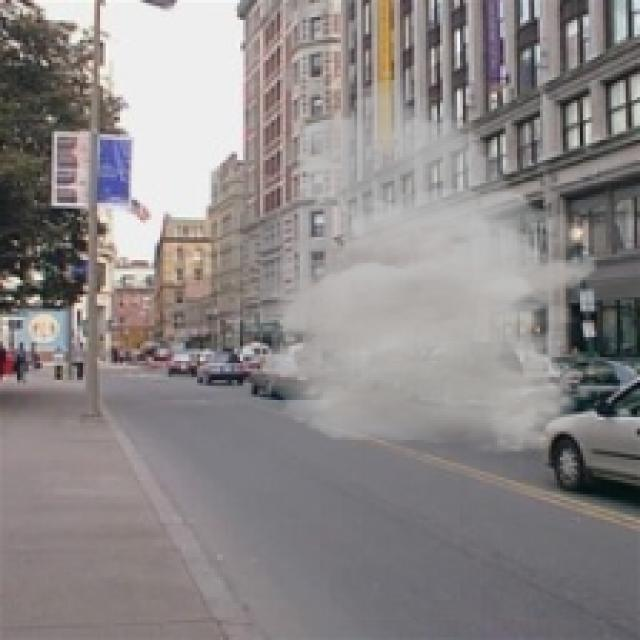smoke: (214, 69, 600, 454)
